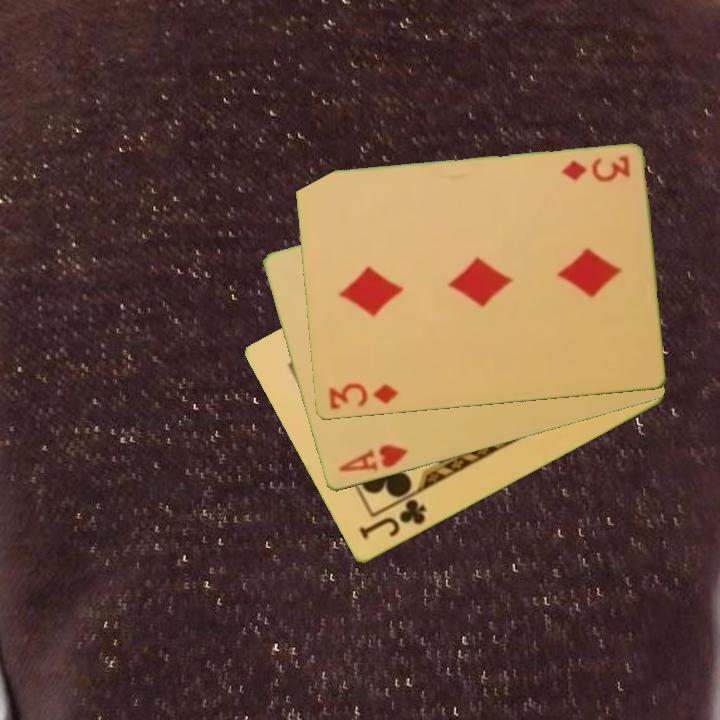3d: (324, 379, 401, 413), (557, 153, 633, 185)
Ah: (335, 441, 411, 476)
Jc: (355, 496, 429, 544)
